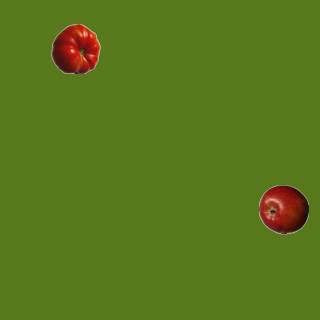Apple Braeburn: (258, 184, 308, 234)
Tomato 3: (50, 23, 100, 73)
